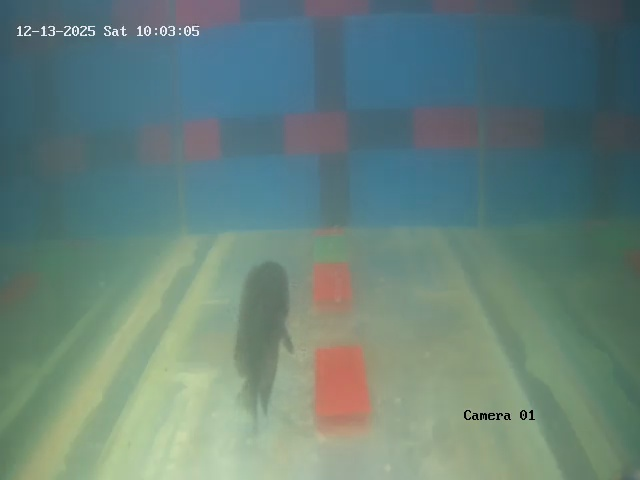fish: (232, 263, 295, 390)
